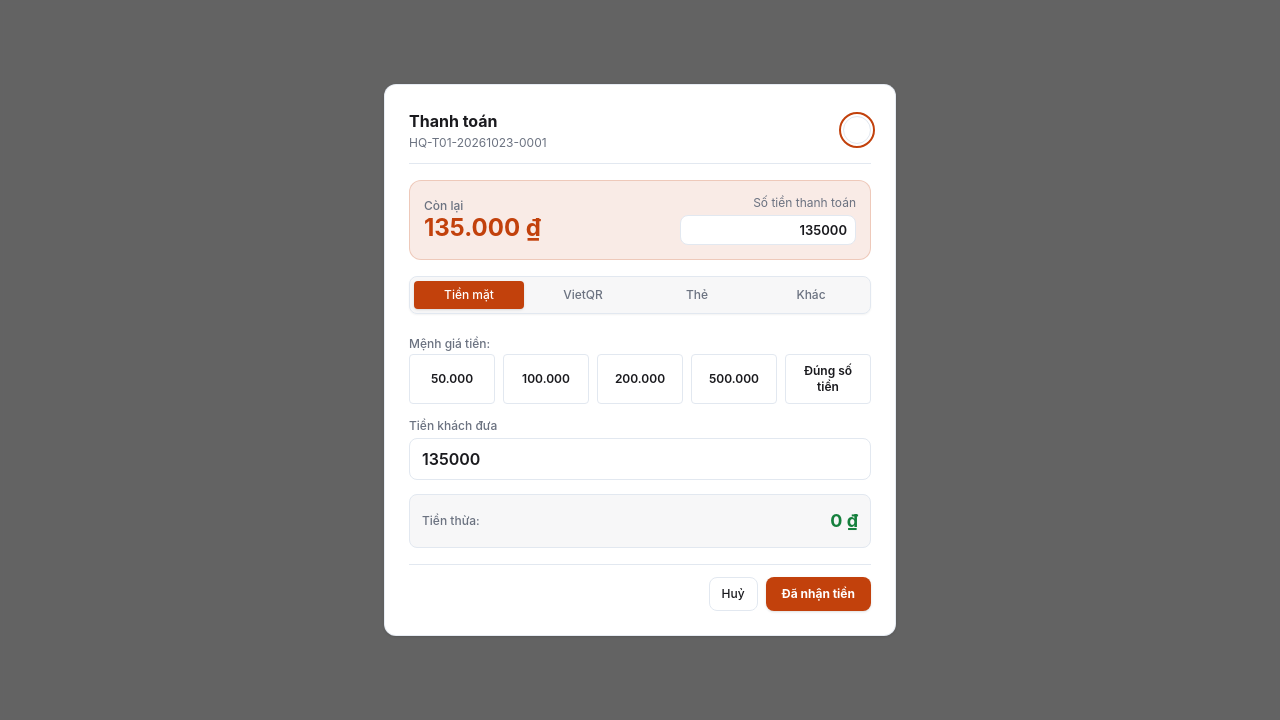
Test: PaymentModal.vue › Cash Tab & Keypad › sets tendered amount from quick denomination buttons and calculates change in real time
The width and height of the screenshot is (1280, 720).
Expected: the button with test id "denom-50k" is shown, [409,354,495,404]
Expected: the button with test id "denom-100k" is shown, [503,354,589,404]
# Click 200.000
Click the button with test id "denom-200k" at (640, 379), box [597,354,683,404]
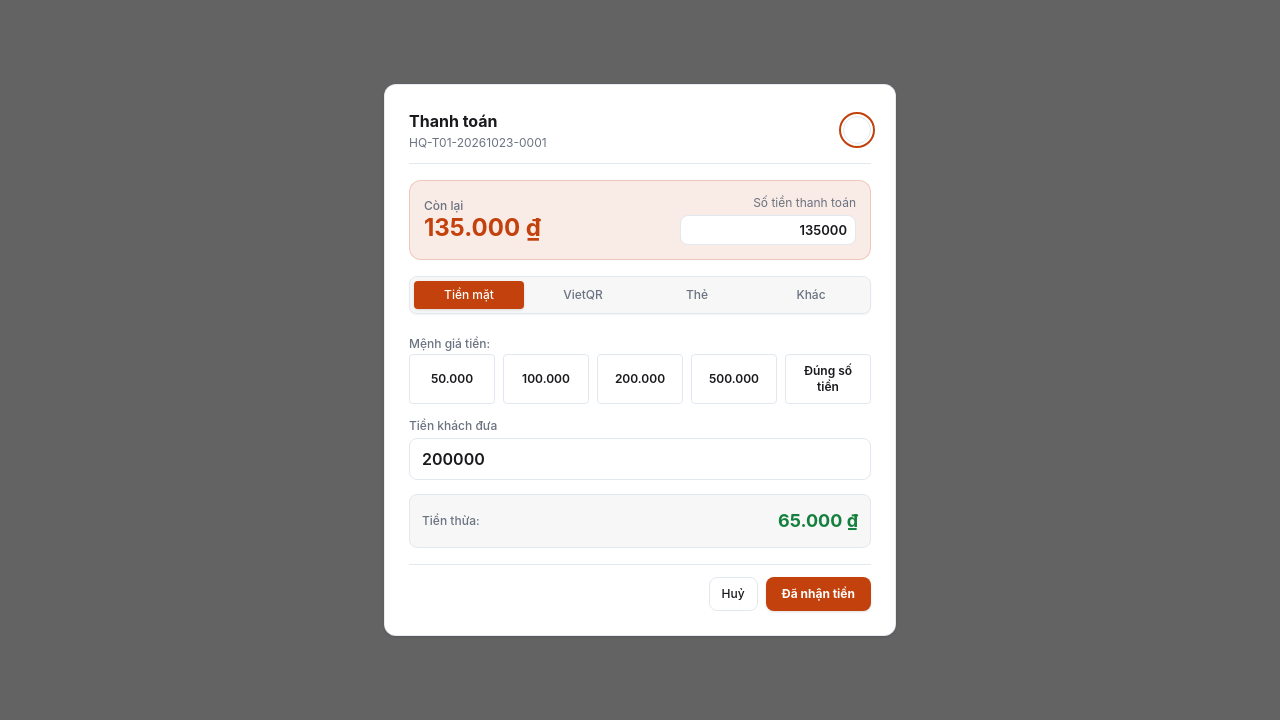
Expected: the field below "Tiền khách đưa" holds "200000", [409,438,871,480]
Expected: the text with test id "change-amount" shows "65.000", [778,510,858,531]
# Click 500.000
Click the button with test id "denom-500k" at (734, 379), box [691,354,777,404]
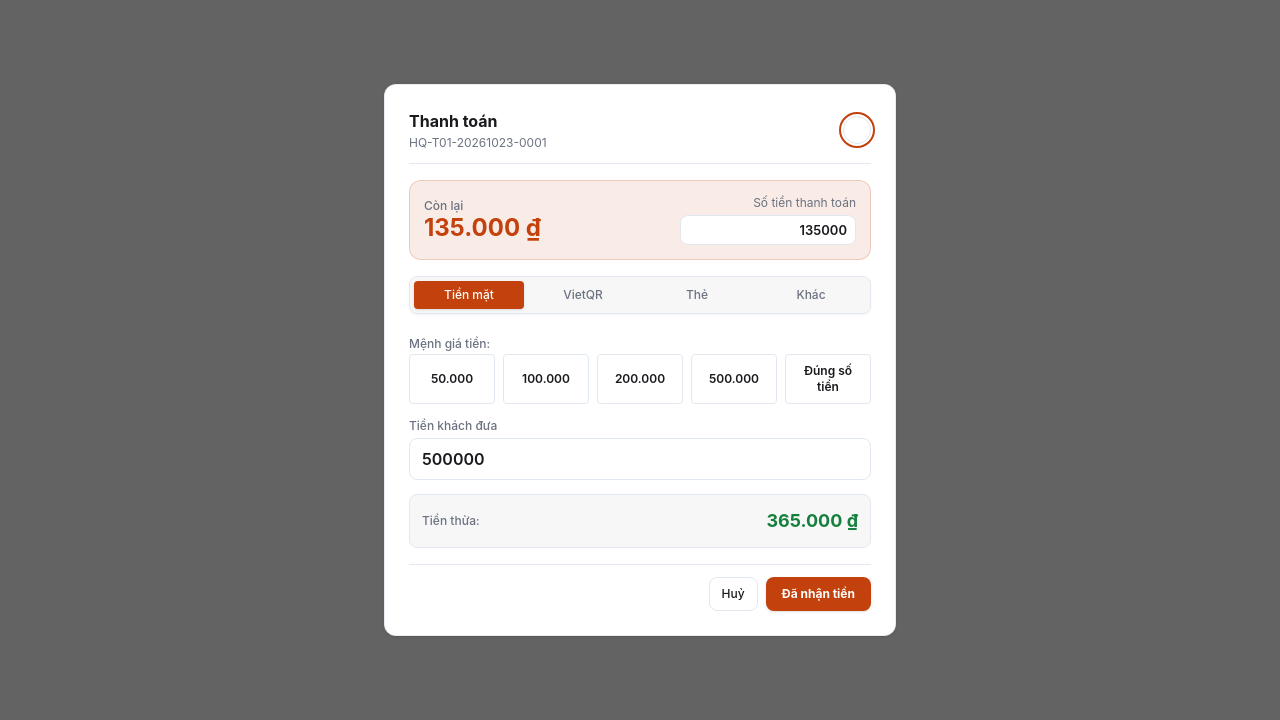
Expected: the field below "Tiền khách đưa" holds "500000", [409,438,871,480]
Expected: the text with test id "change-amount" shows "365.000", [766,510,858,531]
Click the button with test id "denom-exact" at (828, 379), box [785,354,871,404]
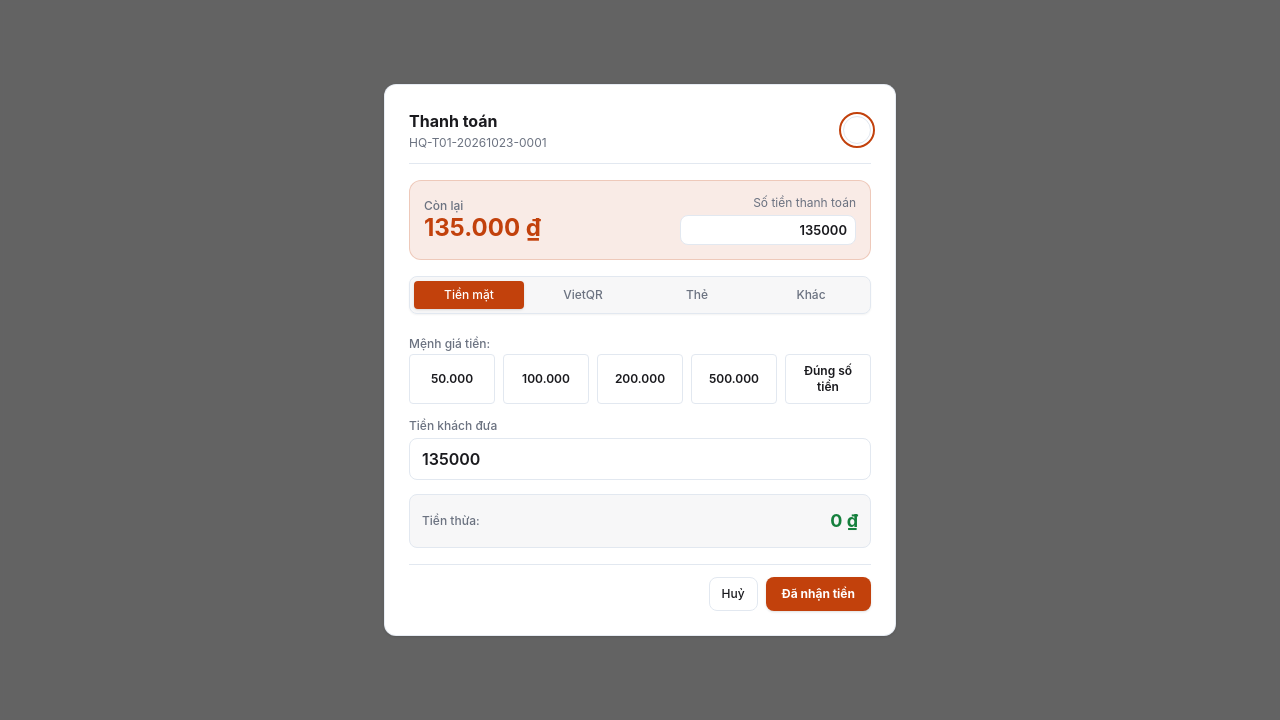
Expected: the text with test id "change-amount" shows "0", [830,510,858,531]
Expected: the field below "Tiền khách đưa" holds "135000", [409,438,871,480]
